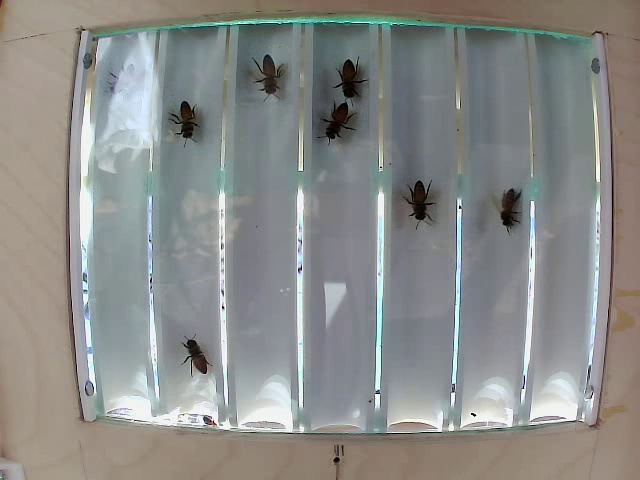bee: (157, 101, 208, 151), (254, 51, 296, 103), (401, 175, 443, 225), (492, 180, 521, 245), (333, 50, 375, 93), (315, 94, 351, 139)
